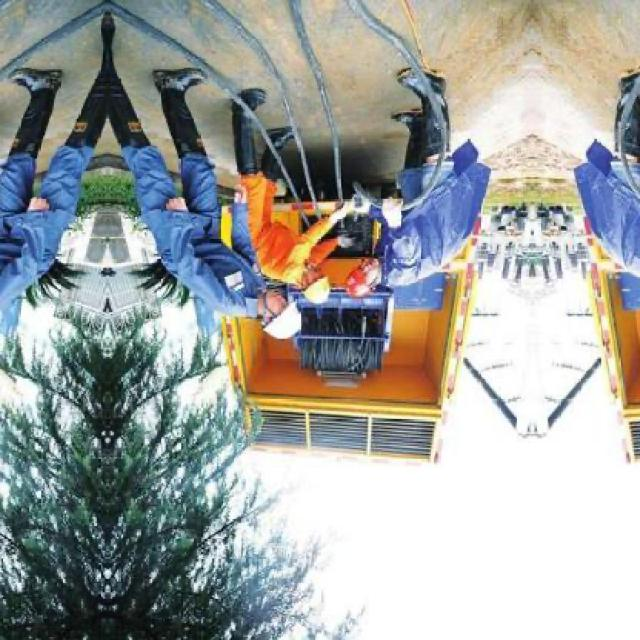con casco: (266, 238, 334, 306), (220, 296, 282, 356), (355, 252, 395, 299)
